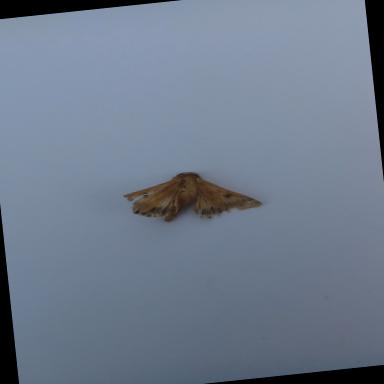abw: (120, 163, 266, 228)
